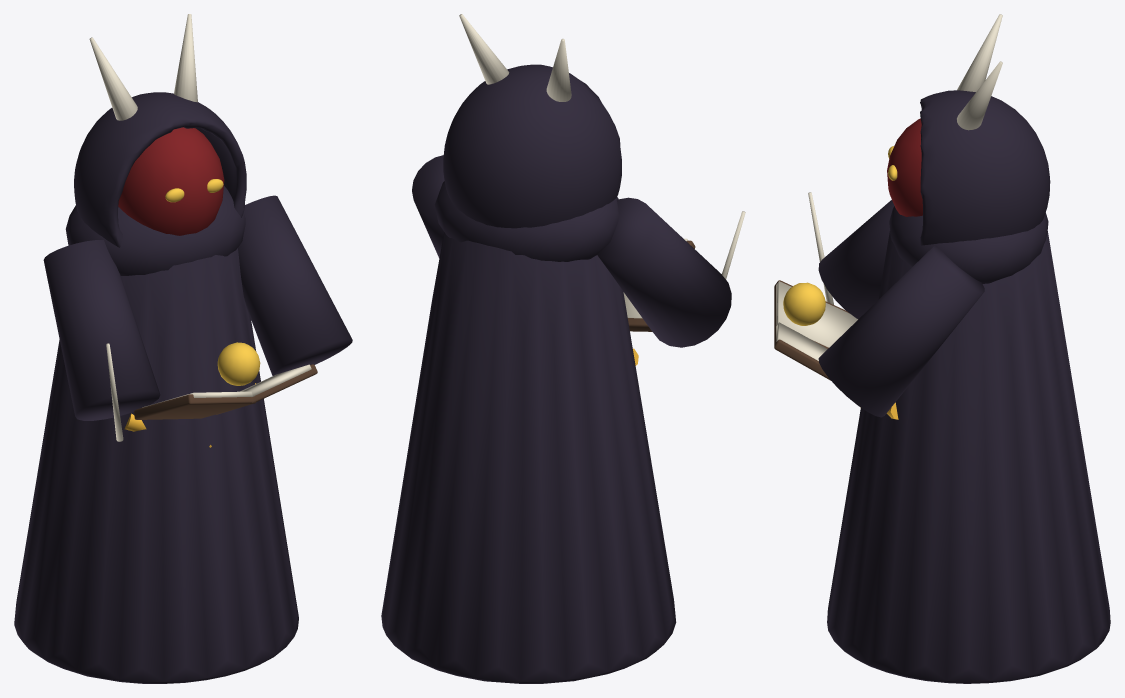
File: Faust.fbx
3 views of the same model, side by side, from view 1: azimuth 30°, elevation 25°; view 2: azimuth 150°, elevation 25°; view 3: azimuth 270°, elevation 25° (orthographic). The views are drawn at different scales.
Parts seen in each view (by area): view 1: Faust; view 2: Faust; view 3: Faust.
Part boxes in pixels (x1,y1,x2,y2): Faust: (14,14,352,683); Faust: (381,14,745,683); Faust: (774,14,1110,683).
Size of the model in its own units: 0.7022 by 1.46 by 0.7574.
